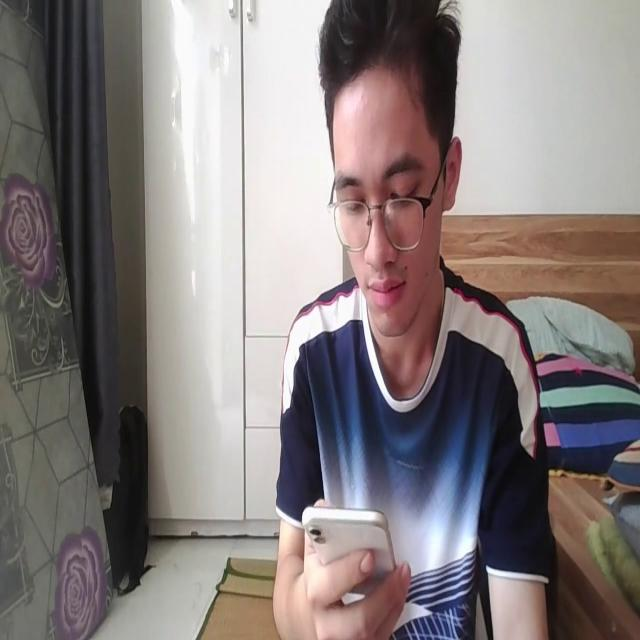phone: (301, 492, 407, 598)
student: (267, 0, 554, 640)
